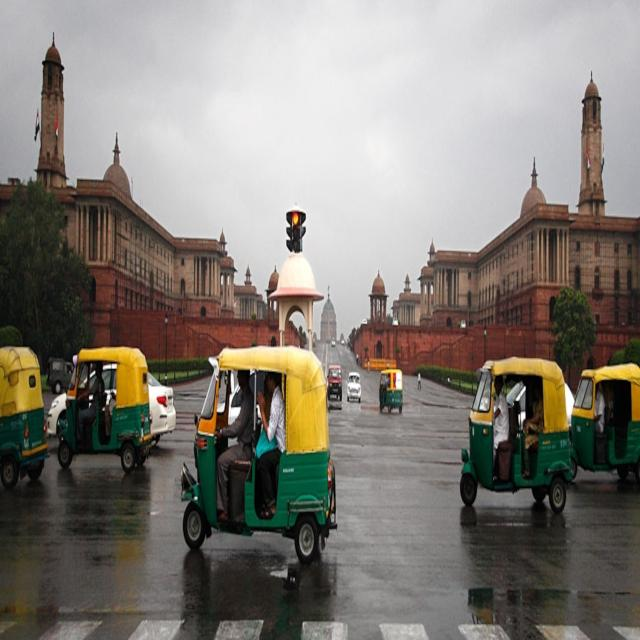Autorickshaw: (173, 334, 339, 580), (454, 357, 574, 527), (70, 330, 152, 486), (1, 328, 48, 492), (374, 356, 411, 424)
